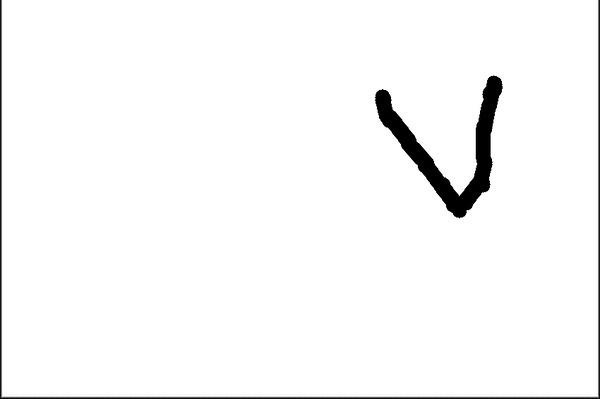V: (359, 73, 519, 223)
